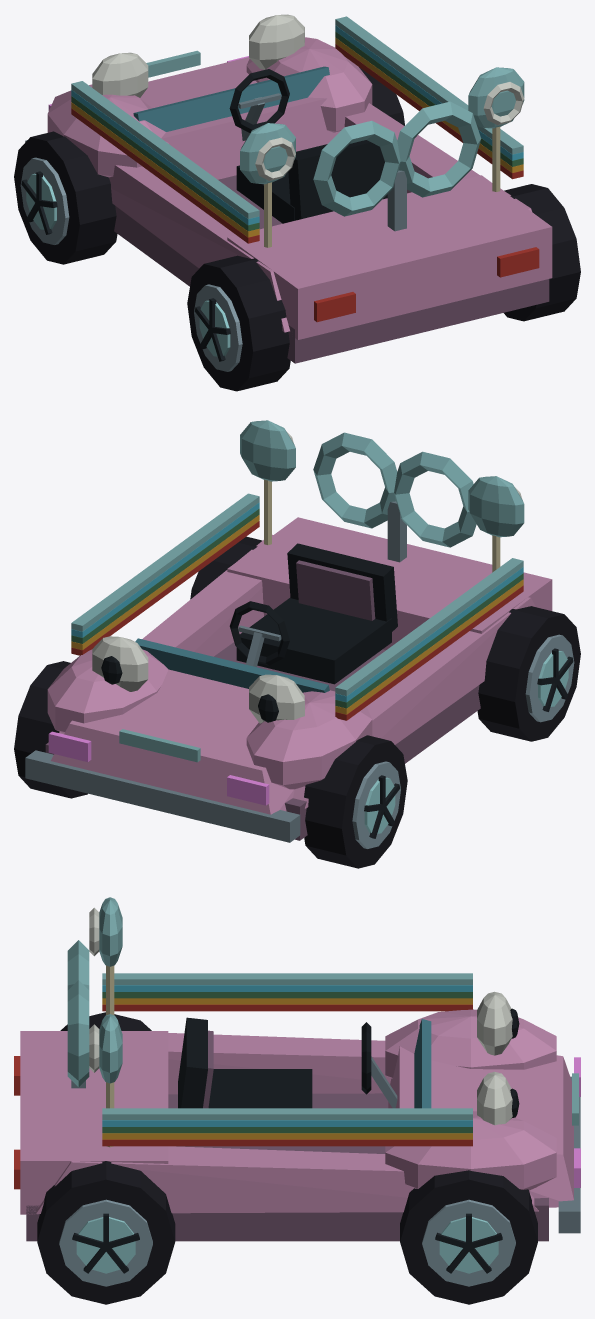
The model's file is kart.glb.
3 renders of one model, top to bottom at view 1: azimuth 30°, elevation 25°; view 2: azimuth 150°, elevation 25°; view 3: azimuth 270°, elevation 25°, orthographic. The views are drawn at different scales.
Visible parts, largest first — view 1: identity-toy-car-toy-rounded-body-and-wind-up-key, identity-toy-car-motif-rainbow, wheel-rear-left, wheel-front-left, identity-toy-car-driver-cockpit, identity-toy-car-motif-sweets, identity-toy-car-motif-eyes, wheel-rear-right, wheel-front-right; view 2: identity-toy-car-toy-rounded-body-and-wind-up-key, identity-toy-car-motif-rainbow, identity-toy-car-driver-cockpit, wheel-rear-left, wheel-front-left, identity-toy-car-motif-sweets, identity-toy-car-motif-eyes, wheel-front-right, wheel-rear-right; view 3: identity-toy-car-toy-rounded-body-and-wind-up-key, identity-toy-car-motif-rainbow, wheel-rear-right, wheel-front-right, identity-toy-car-driver-cockpit, identity-toy-car-motif-sweets, identity-toy-car-motif-eyes, wheel-rear-left.
Boxes of the visible parts, x1,y1,x2,y2 form: identity-toy-car-toy-rounded-body-and-wind-up-key: [25, 37, 552, 363]; identity-toy-car-motif-rainbow: [71, 16, 523, 243]; wheel-rear-left: [187, 255, 290, 391]; wheel-front-left: [14, 131, 117, 264]; identity-toy-car-driver-cockpit: [229, 69, 387, 223]; identity-toy-car-motif-sweets: [240, 67, 524, 247]; identity-toy-car-motif-eyes: [92, 14, 304, 97]; wheel-rear-right: [504, 184, 580, 321]; wheel-front-right: [359, 67, 404, 125]; identity-toy-car-toy-rounded-body-and-wind-up-key: [25, 432, 552, 842]; identity-toy-car-motif-rainbow: [71, 493, 523, 720]; identity-toy-car-driver-cockpit: [229, 543, 397, 684]; wheel-rear-left: [477, 606, 580, 741]; wheel-front-left: [304, 735, 407, 868]; identity-toy-car-motif-sweets: [240, 420, 524, 572]; identity-toy-car-motif-eyes: [92, 636, 304, 723]; wheel-front-right: [14, 661, 87, 798]; wheel-rear-right: [190, 536, 262, 599]; identity-toy-car-toy-rounded-body-and-wind-up-key: [14, 940, 580, 1241]; identity-toy-car-motif-rainbow: [102, 973, 472, 1146]; wheel-rear-right: [37, 1161, 175, 1304]; wheel-front-right: [400, 1170, 537, 1304]; identity-toy-car-driver-cockpit: [178, 1017, 397, 1108]; identity-toy-car-motif-sweets: [89, 897, 122, 1147]; identity-toy-car-motif-eyes: [477, 991, 519, 1125]; wheel-rear-left: [60, 1012, 151, 1030].
Bounding box in the file's own units: 2.13 × 1.47 × 2.88.
